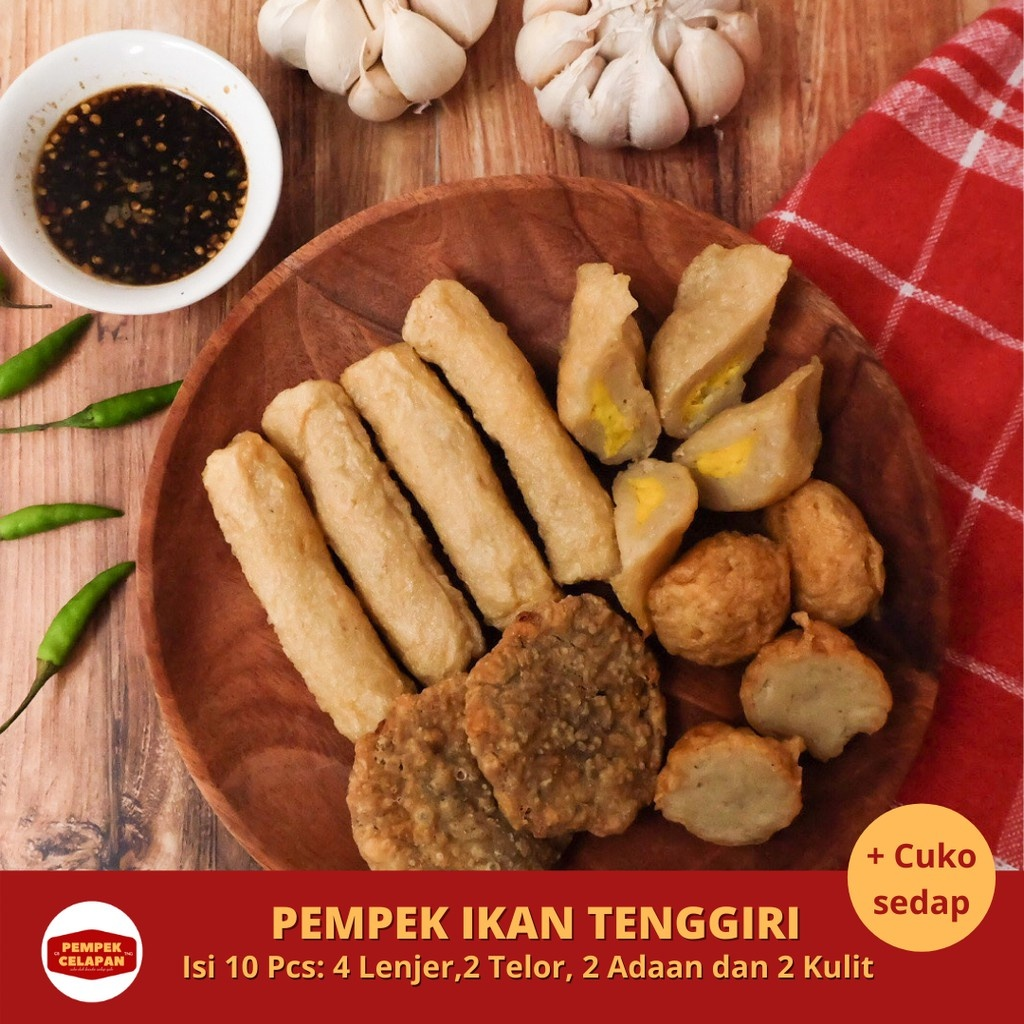pempek: (217, 249, 887, 872)
